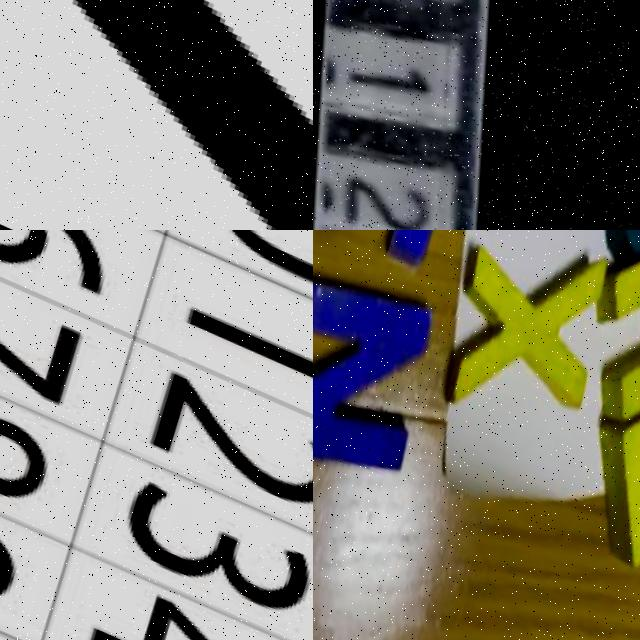0: (207, 230, 313, 309)
1: (176, 266, 313, 393), (329, 10, 454, 124)
2: (132, 354, 313, 516), (316, 129, 458, 230)
3: (107, 466, 313, 617)
4: (73, 564, 283, 640)
6: (0, 230, 125, 301)
7: (0, 245, 89, 403)
8: (0, 355, 56, 511)
L: (543, 287, 640, 595)
N: (313, 253, 445, 509)
R: (559, 230, 640, 446)
V: (0, 0, 313, 230)
X: (418, 230, 618, 427)
